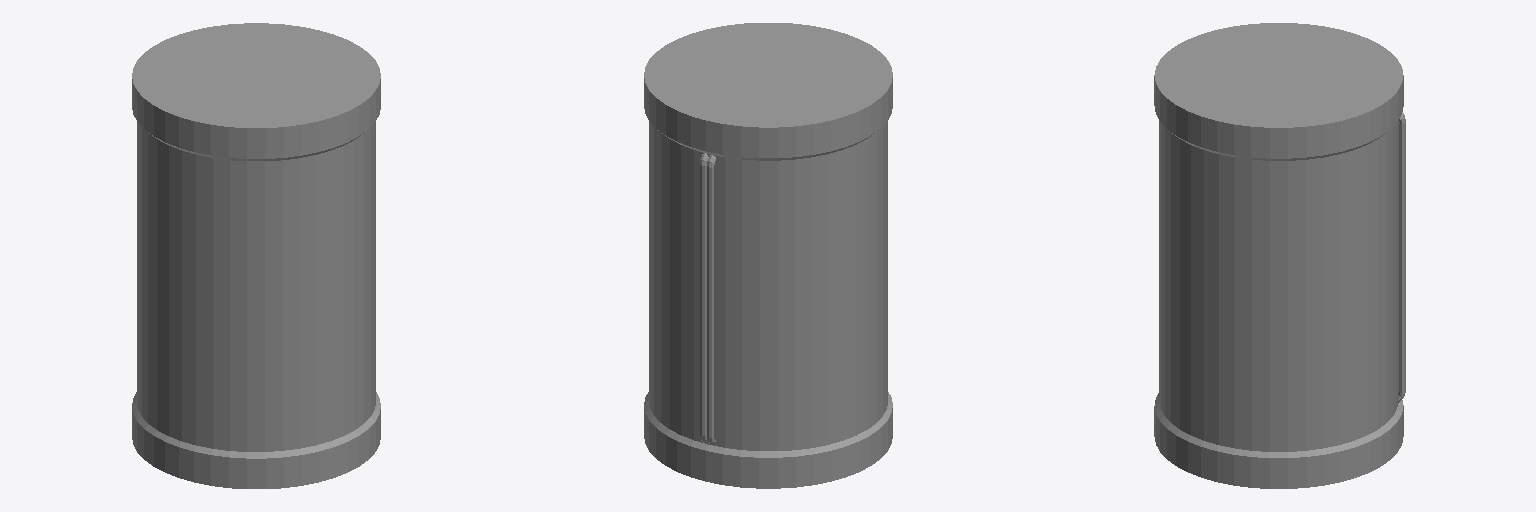
Rendered from tank_125_2.obj.
The picture shows the model from 3 angles: view 1: azimuth 30°, elevation 25°; view 2: azimuth 150°, elevation 25°; view 3: azimuth 270°, elevation 25°; orthographic projection.
Visible parts, largest first — view 1: Body_Cylinder.002; view 2: Body_Cylinder.002; view 3: Body_Cylinder.002.
Boxes of the visible parts, x1=… form: Body_Cylinder.002: x1=132, y1=23, x2=380, y2=488; Body_Cylinder.002: x1=644, y1=23, x2=892, y2=488; Body_Cylinder.002: x1=1154, y1=23, x2=1405, y2=488.
Bounding box in the file's own units: 1.25 × 2 × 1.26.